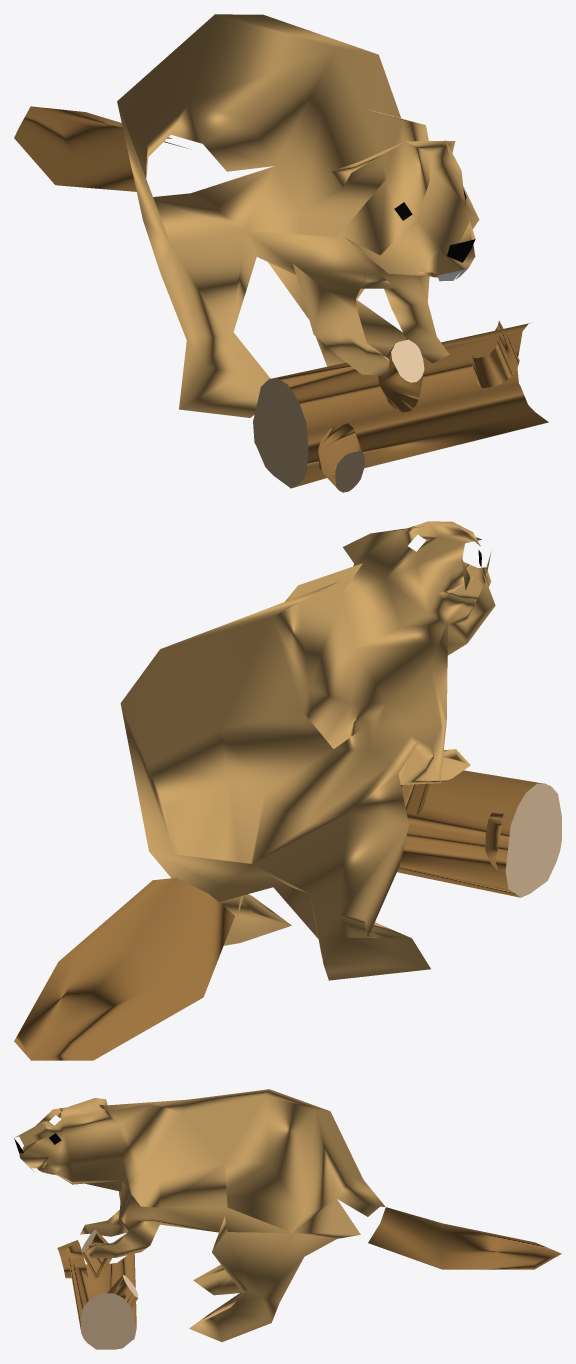
The model's file is Castor.gltf.
The picture shows the model from 3 angles, top to bottom: view 1: azimuth 30°, elevation 25°; view 2: azimuth 150°, elevation 25°; view 3: azimuth 270°, elevation 25°; orthographic projection. The views are drawn at different scales.
Visible parts, largest first — view 1: G_0Editable_Mesh_00_1_1, Group1; view 2: G_0Editable_Mesh_00_1_1, Group1; view 3: G_0Editable_Mesh_00_1_1, Group1.
Boxes of the visible parts, bbox=[...] form: G_0Editable_Mesh_00_1_1: bbox=[14, 14, 479, 417]; Group1: bbox=[253, 320, 548, 492]; G_0Editable_Mesh_00_1_1: bbox=[14, 521, 495, 1060]; Group1: bbox=[397, 770, 561, 897]; G_0Editable_Mesh_00_1_1: bbox=[14, 1089, 561, 1341]; Group1: bbox=[57, 1229, 137, 1349].
Bounding box in the file's own units: 339 × 413 × 953.
